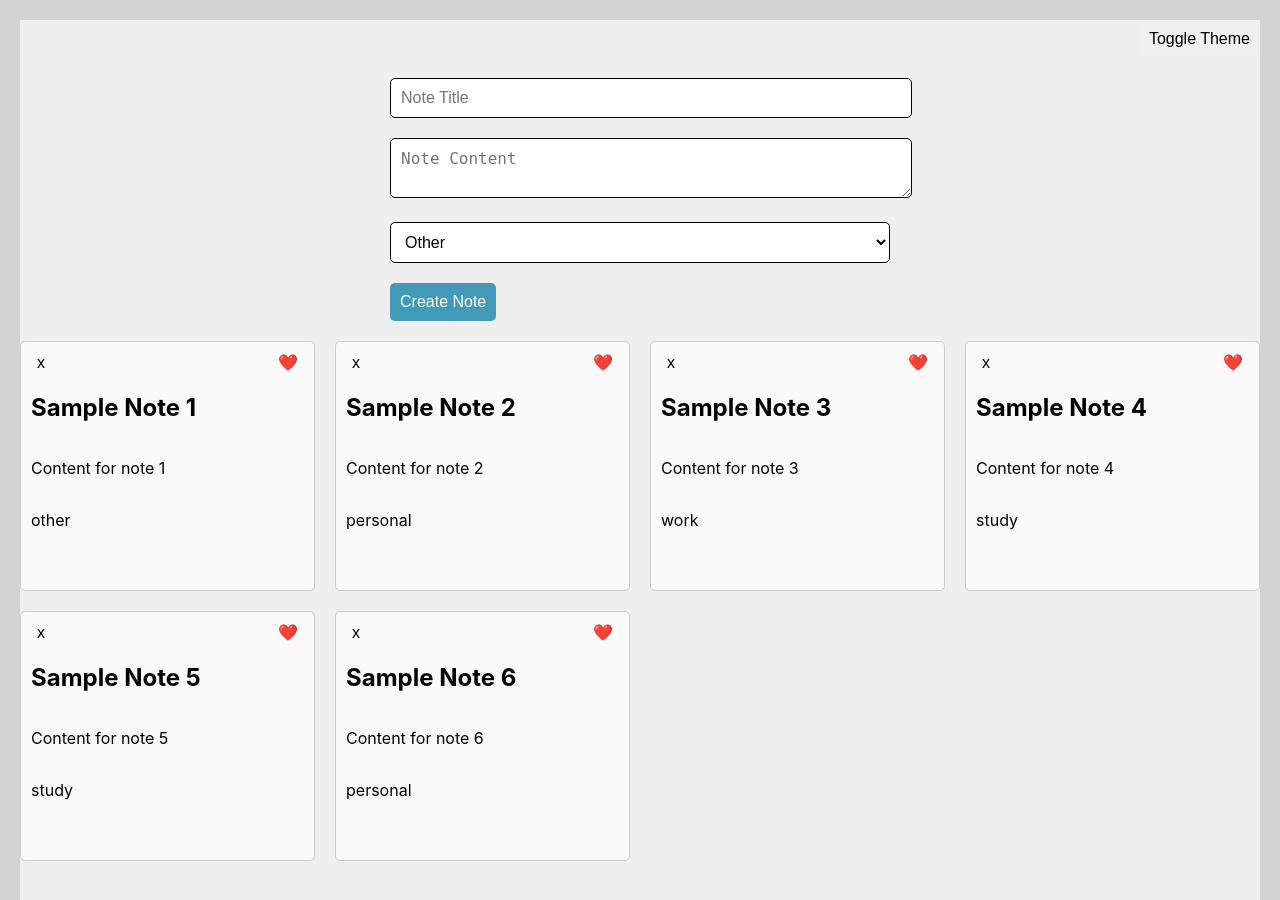
Test case: StickyNotes Component › updates an existing note
The width and height of the screenshot is (1280, 900).
Click the heading "Sample Note 1": (114, 407) [31,393,196,422]
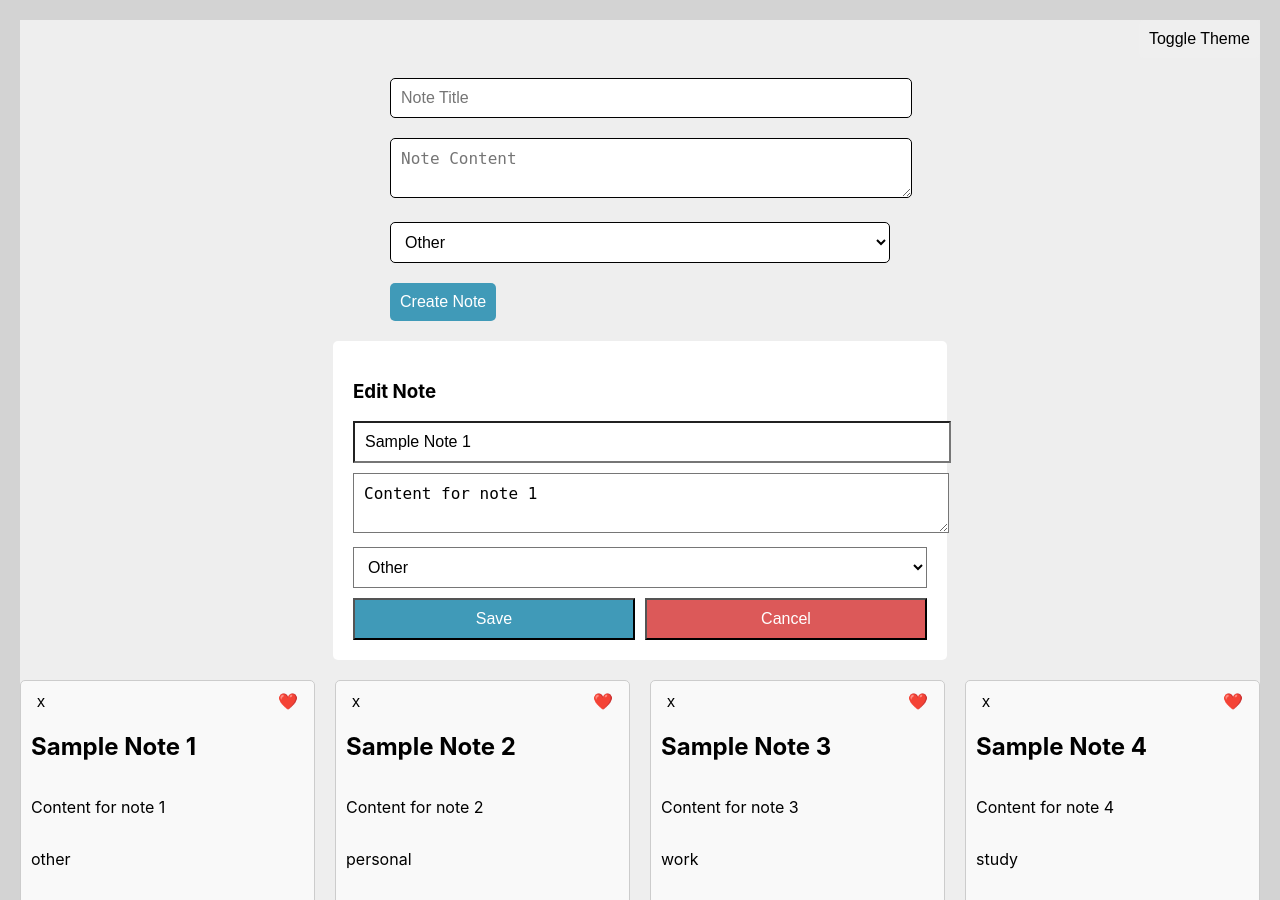
Replace the text in the field showing "Sample Note 1" with "Updated Note Title": (652, 442) [353,421,951,463]
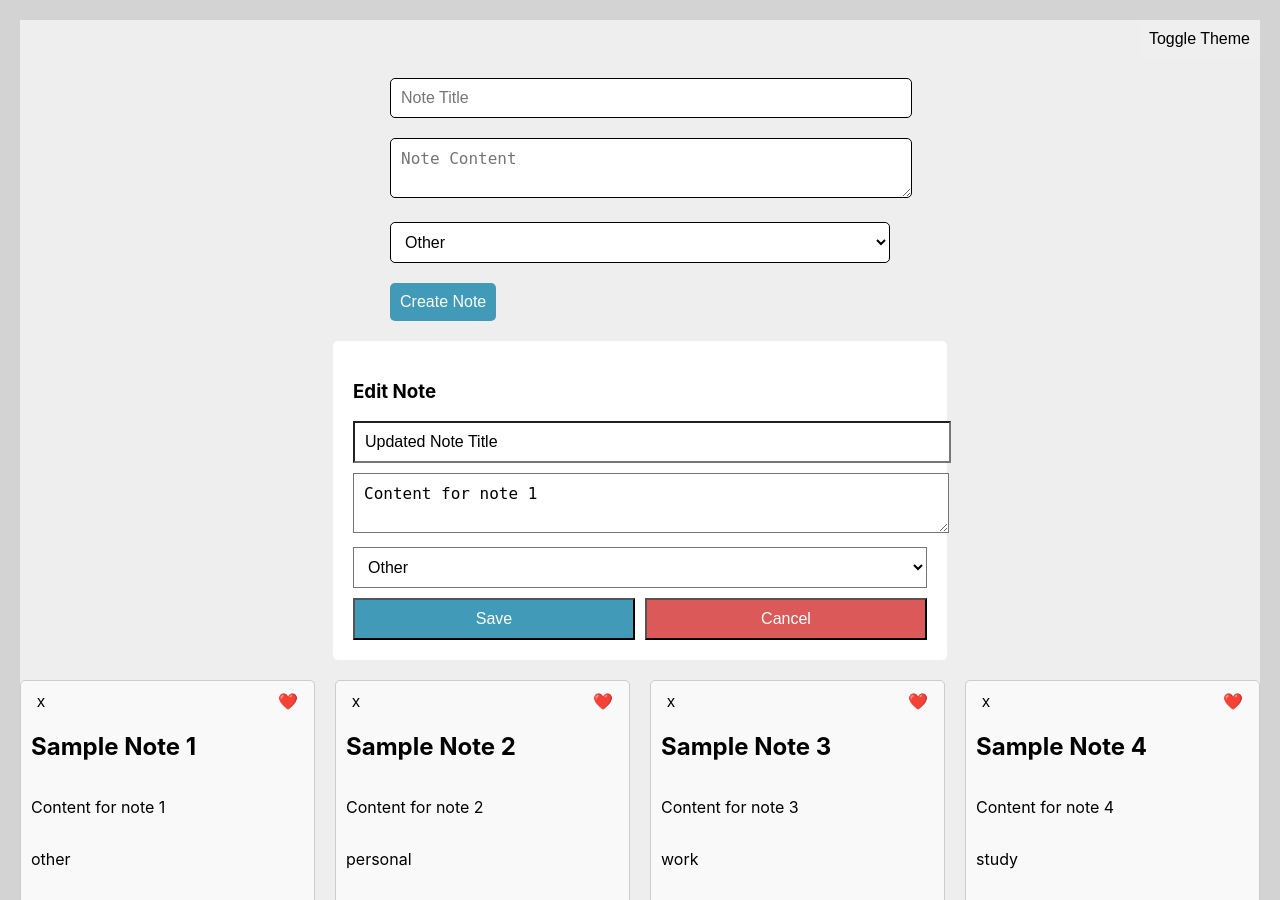
Replace the text in the text box showing "Content for note 1" with "Updated note content.": (651, 503) [353,473,949,533]
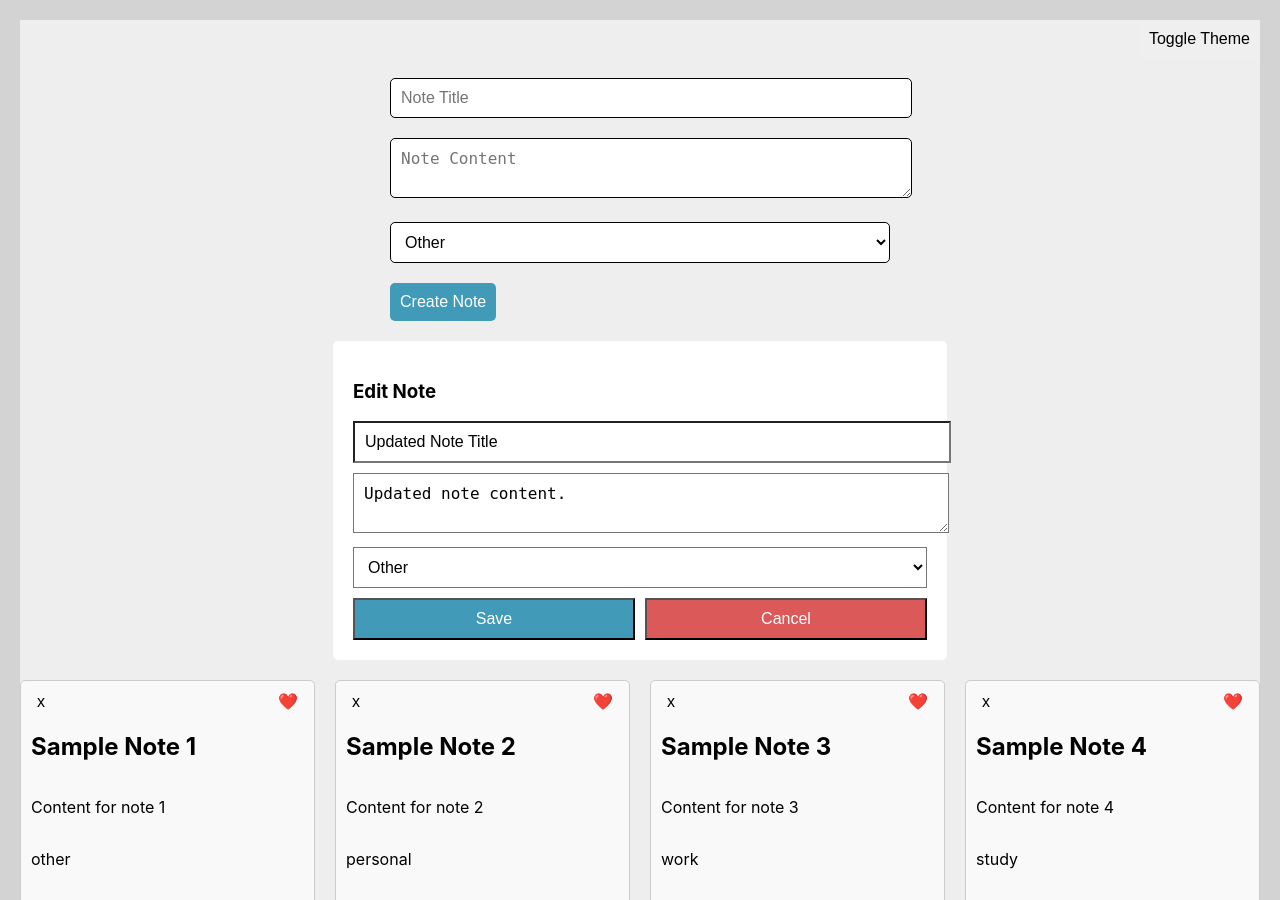
Click the button "Save": (494, 619) [353,598,635,640]
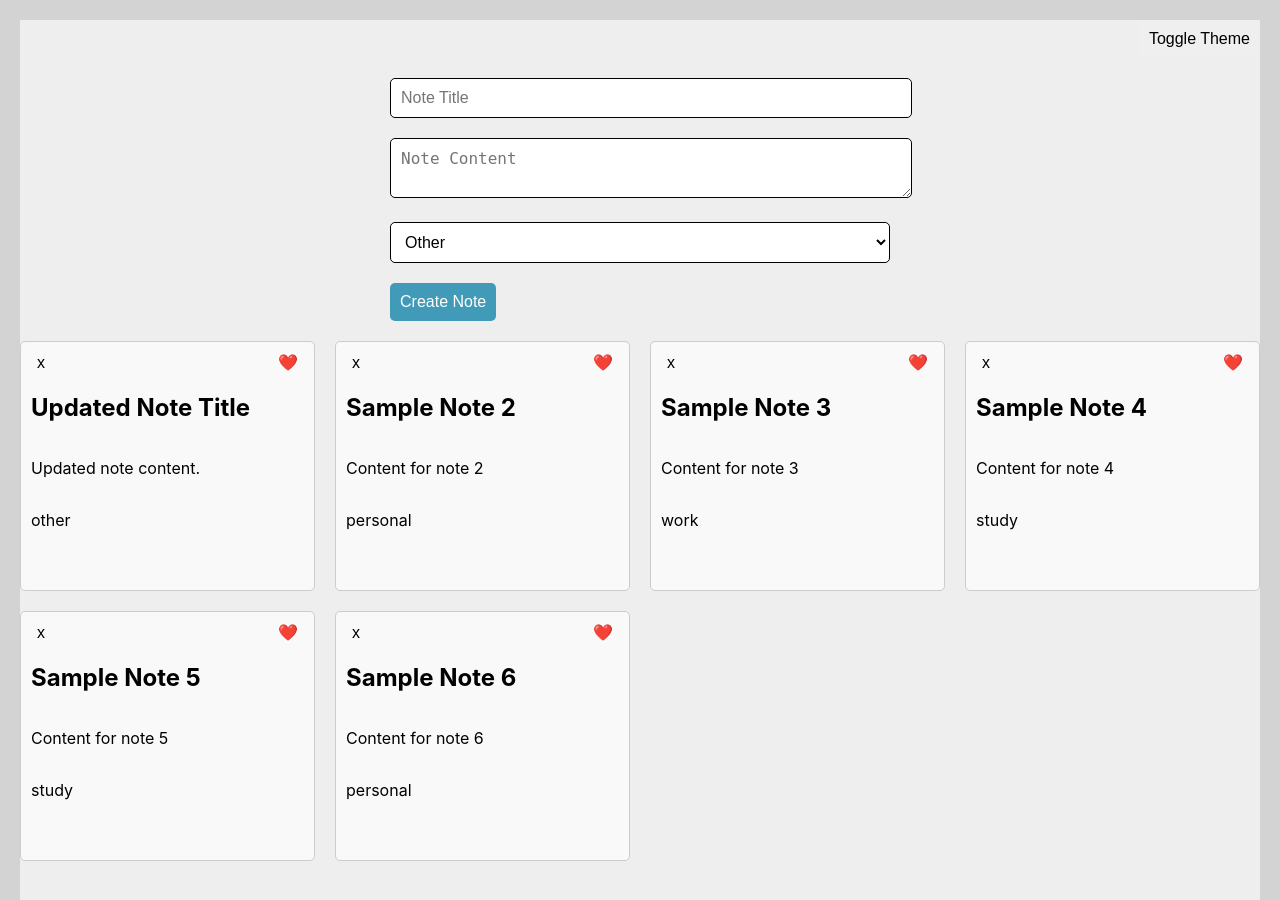
Result: the heading "Updated Note Title" is shown at [31,393,250,422]
Result: the text "Updated note content." is shown at [31,458,200,478]
Result: the heading "Sample Note 1" is gone
